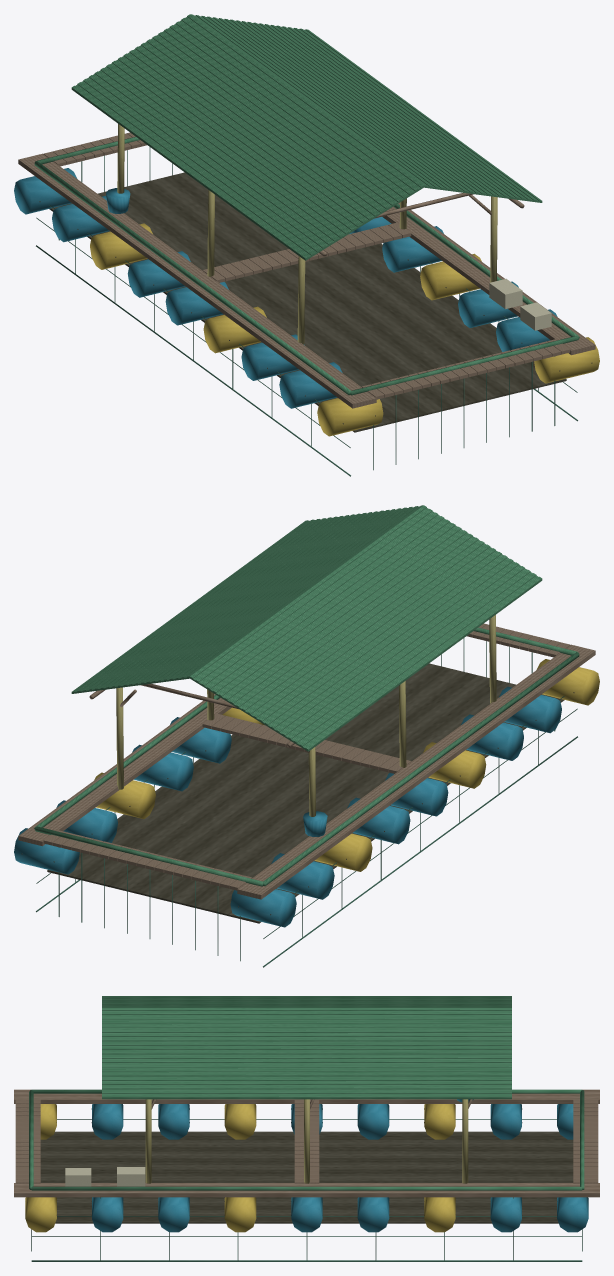
File: bung-raft-3-green.glb
3 renders of one model, top to bottom at view 1: azimuth 30°, elevation 25°; view 2: azimuth 150°, elevation 25°; view 3: azimuth 270°, elevation 25°, orthographic. The views are drawn at different scales.
Visible parts, largest first — view 1: bung-raft-3-green; view 2: bung-raft-3-green; view 3: bung-raft-3-green.
Boxes of the visible parts, left/top/right/bottom form: bung-raft-3-green: left=14, top=14, right=599, bottom=476; bung-raft-3-green: left=14, top=505, right=599, bottom=967; bung-raft-3-green: left=14, top=996, right=599, bottom=1261.
Bounding box in the file's own units: 4.94 × 4.18 × 10.8.
Materials: 1 (1 with a texture image).
